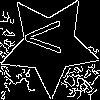V: (24, 20, 70, 55)
